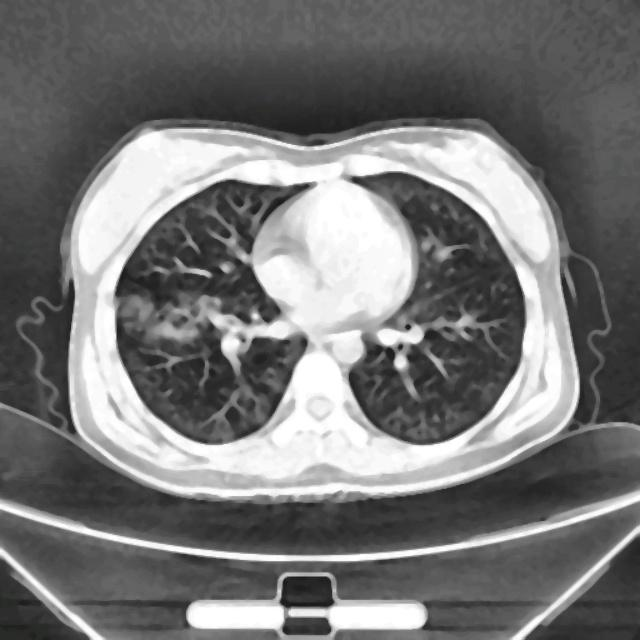covid: (58, 115, 586, 502)
